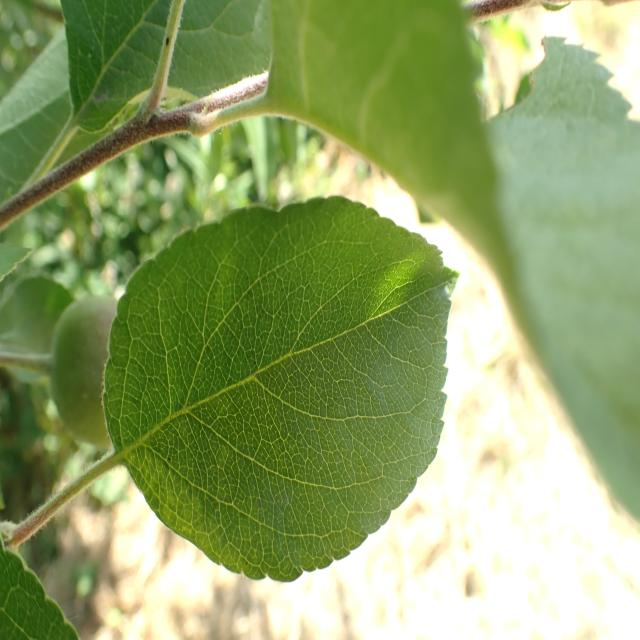healthy: (103, 195, 462, 581), (58, 0, 274, 134), (51, 294, 119, 448), (0, 538, 81, 640)
